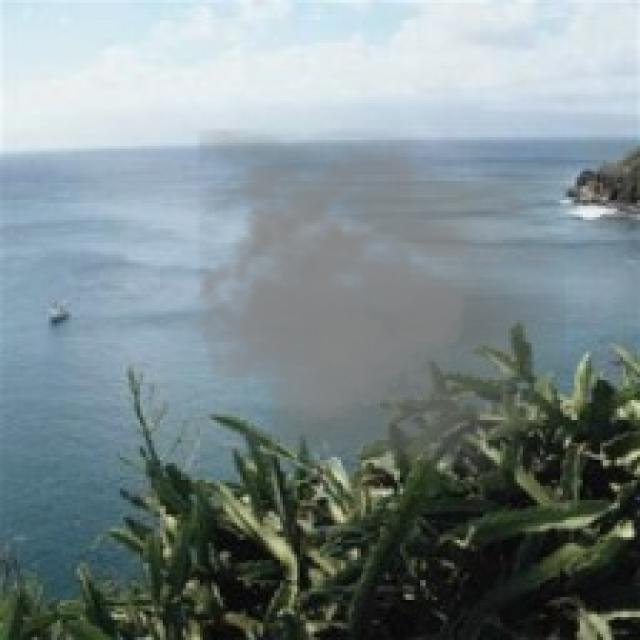Smoke: (185, 128, 566, 478)
